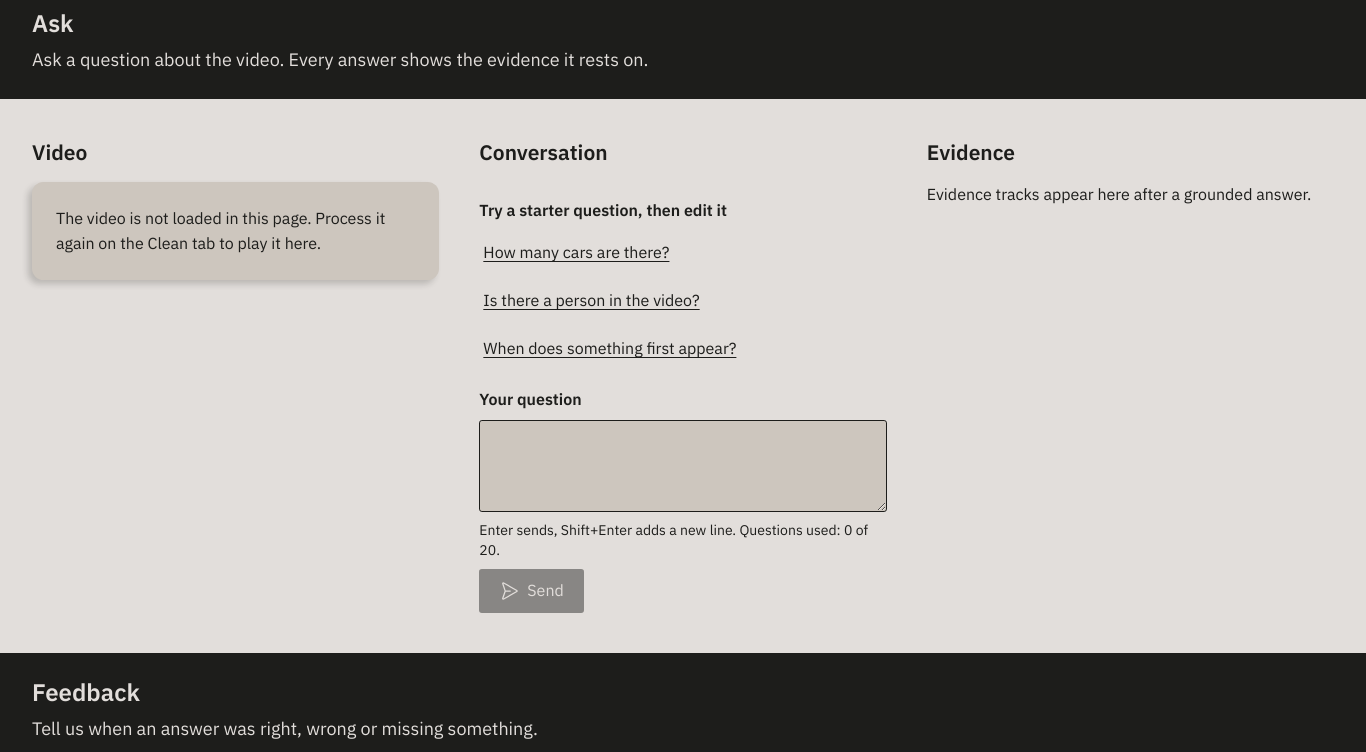
Test: FeedbackView › requires a verdict and shows backend errors inline
The image size is (1366, 752).
Type "How many cars are there?" into the text box labelled "Your question".
click(683, 466); type("How many cars are there?")  # box x1=479 y1=420 x2=887 y2=512
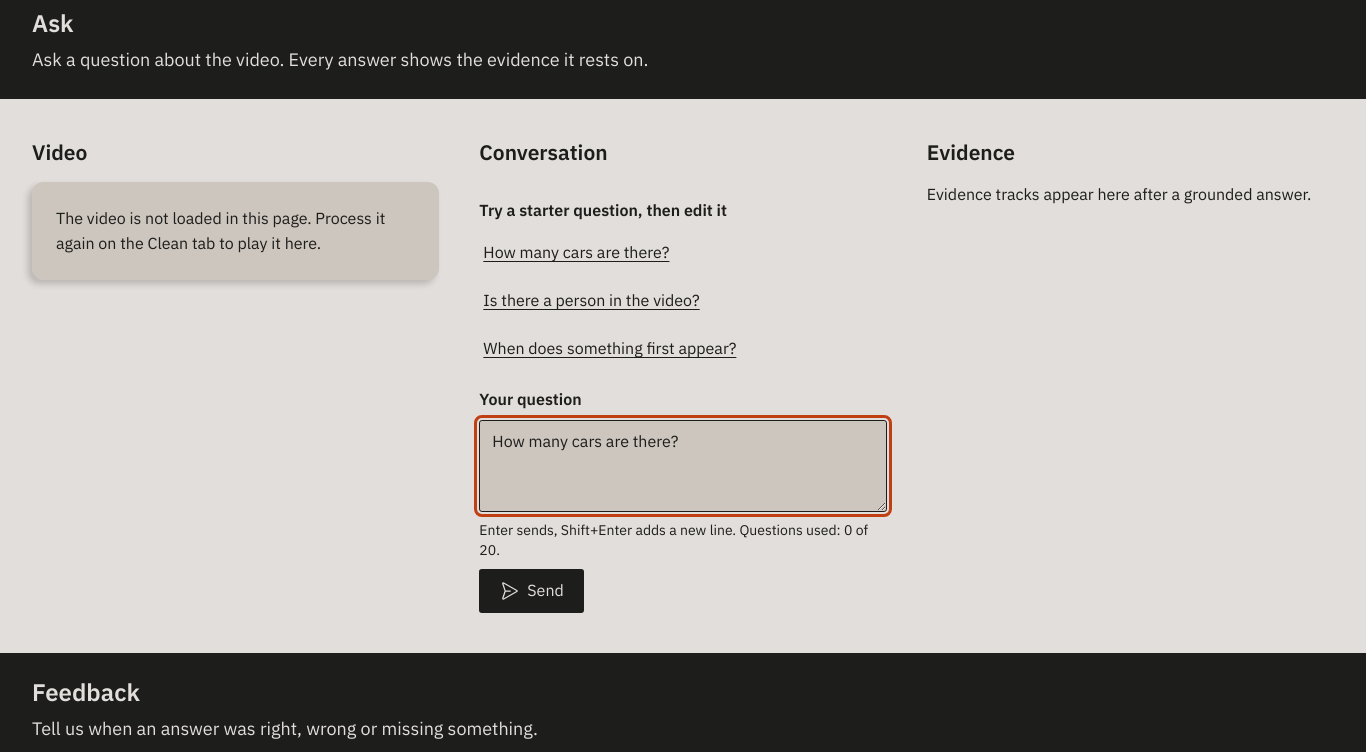
Click the button "Send".
click(532, 591)  # box x1=479 y1=569 x2=584 y2=613
(page scrolled)
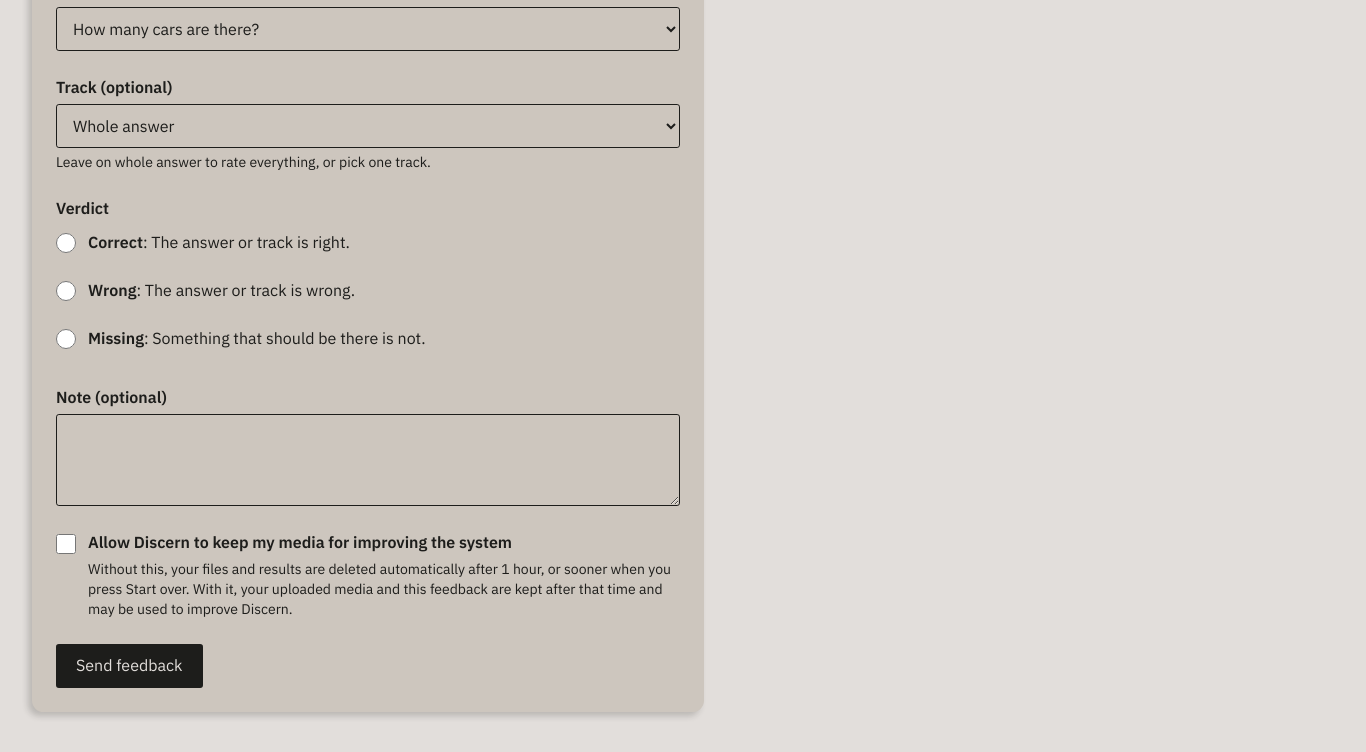
Click the button "Send feedback".
click(129, 666)  # box x1=56 y1=644 x2=202 y2=688
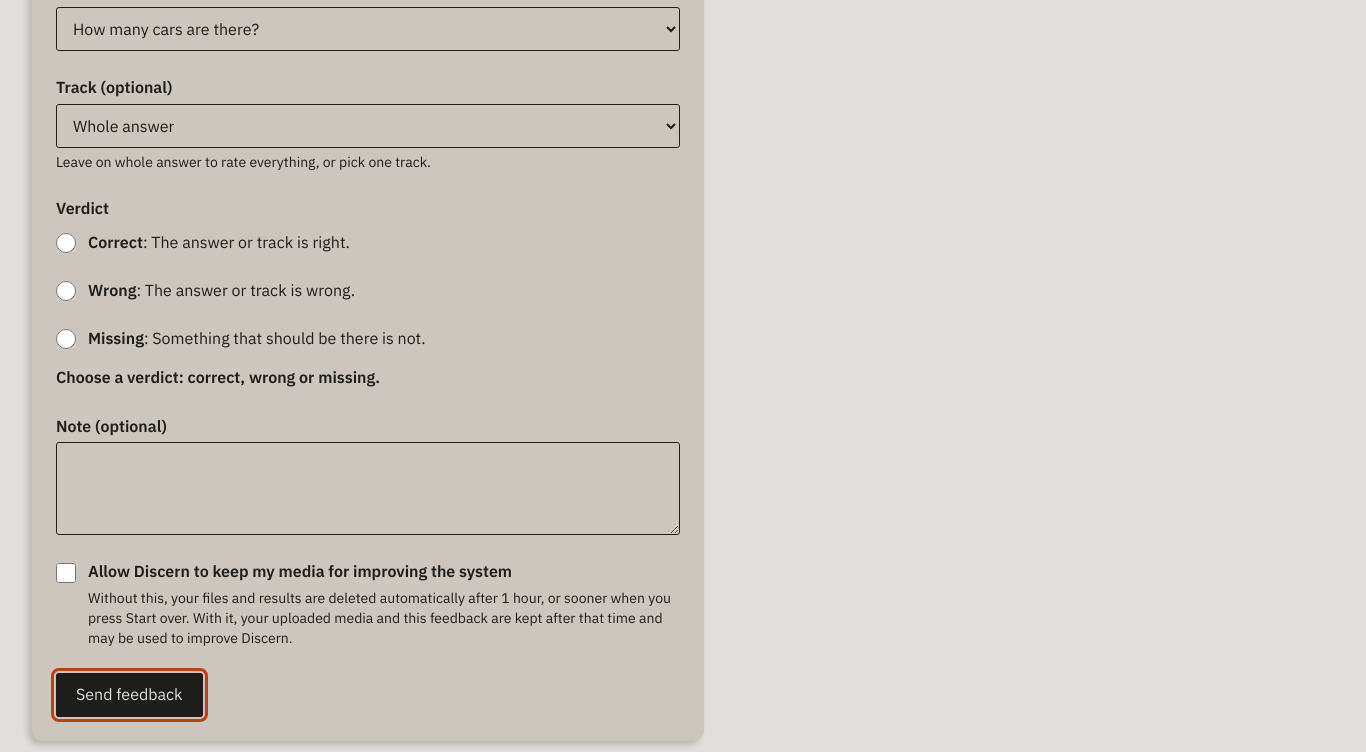
Now the text "Choose a verdict: correct, wrong or missing." is shown, box x1=56 y1=367 x2=380 y2=387
Click the radio button labelled "Correct: The answer or track is right.".
click(66, 243)  # box x1=56 y1=233 x2=76 y2=253
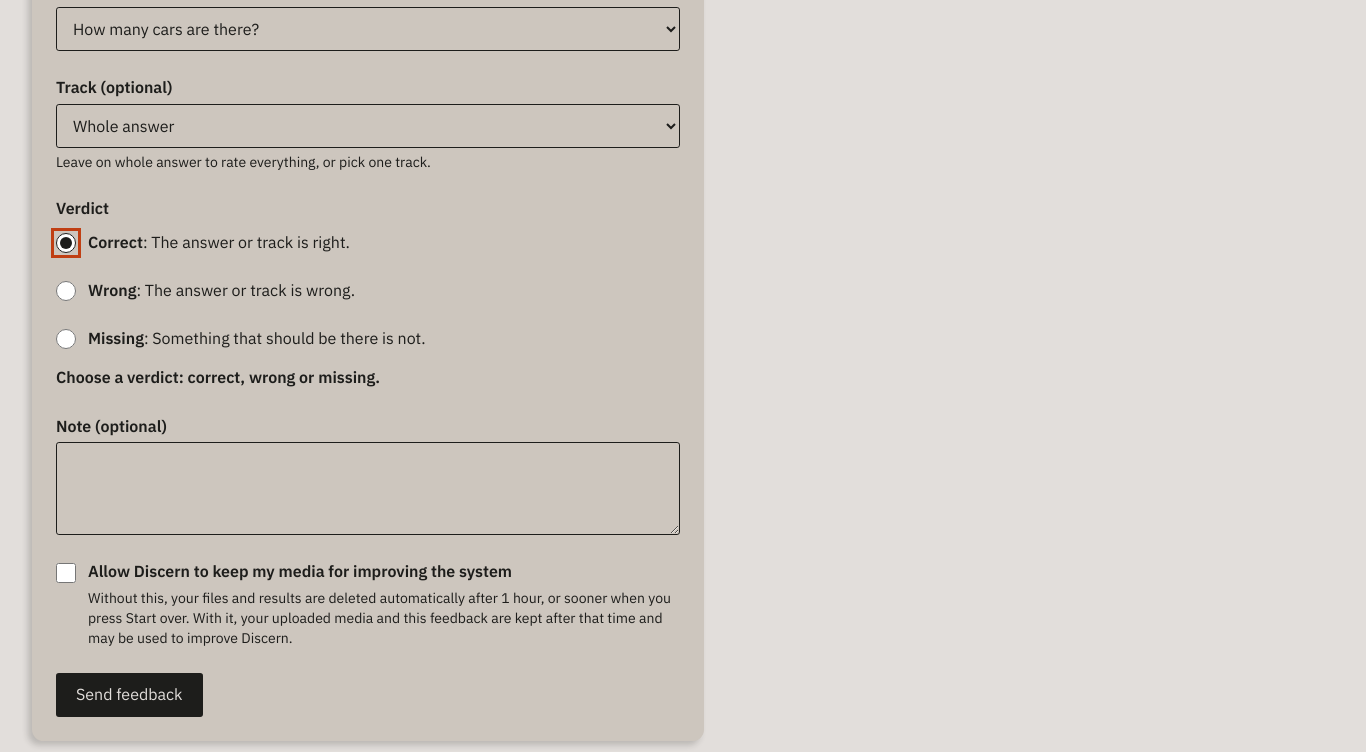
Click the button "Send feedback".
click(129, 694)  # box x1=56 y1=672 x2=202 y2=716
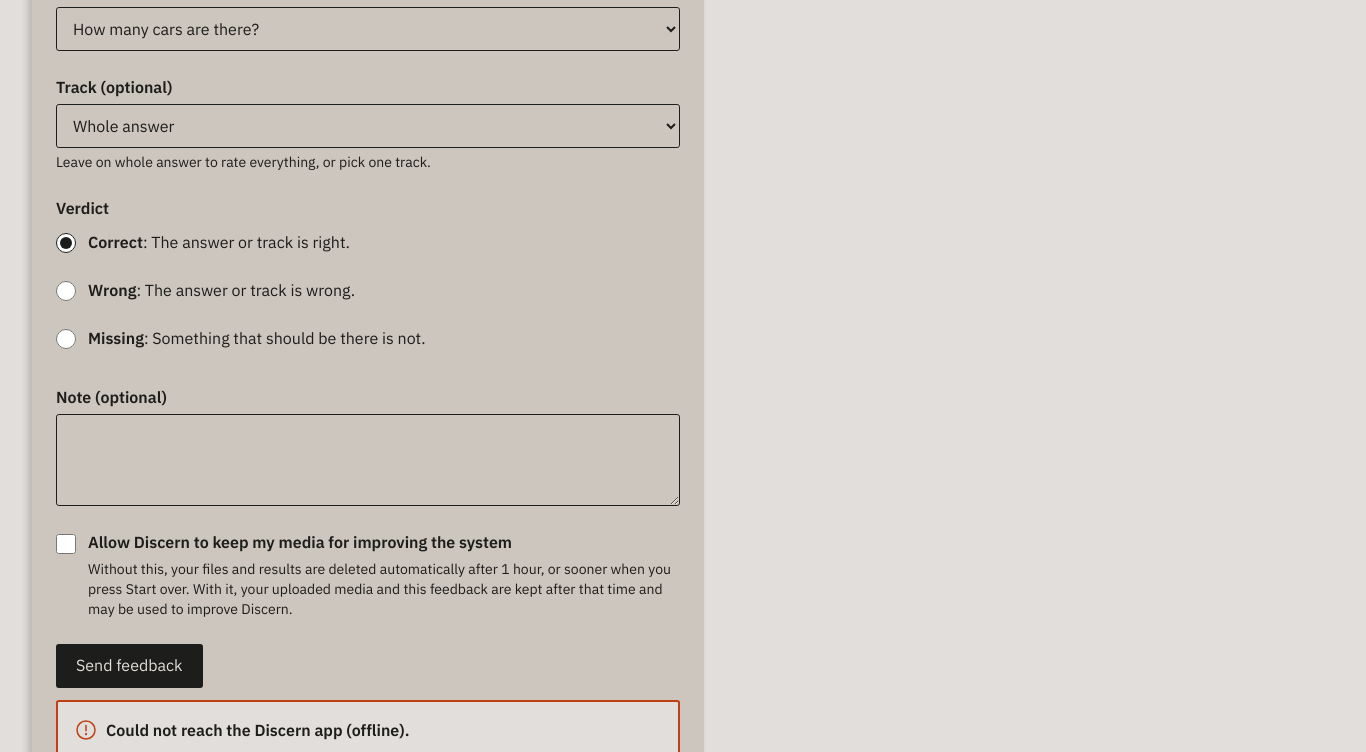
Now the text "Could not reach the Discern app (offline)." is shown, box x1=106 y1=718 x2=410 y2=742
